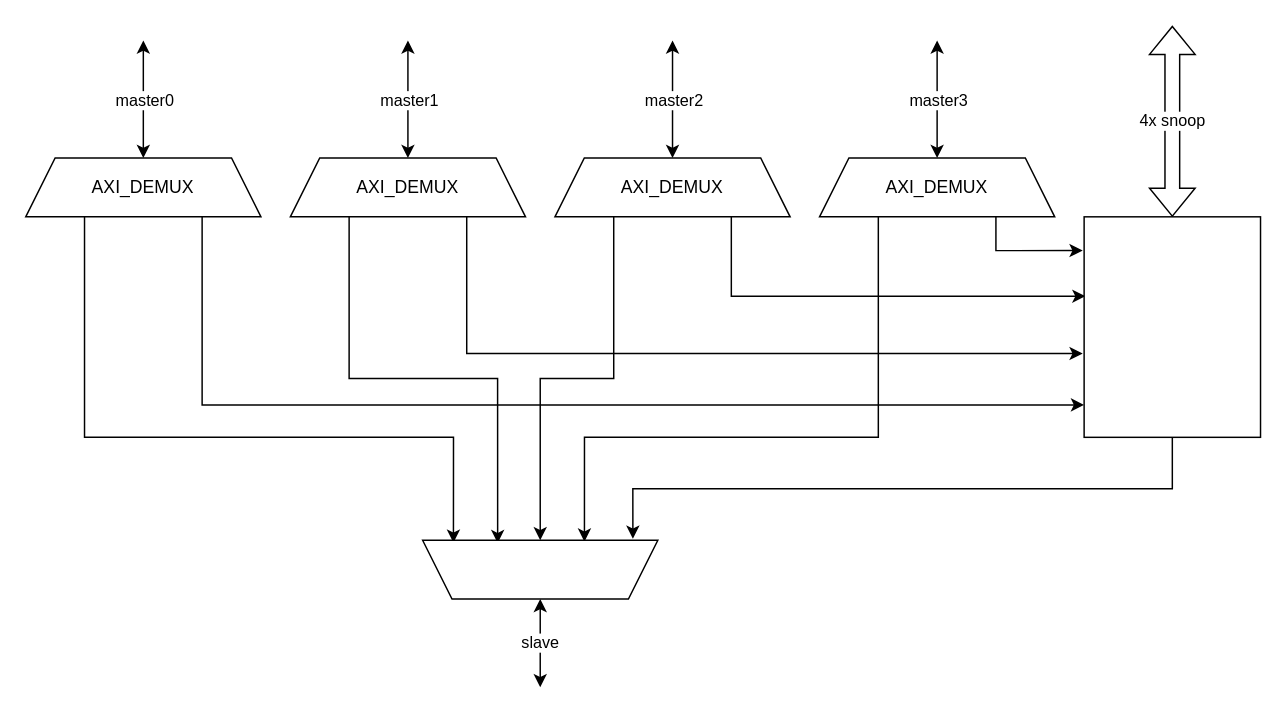
The diagram is 1286 pixels wide and 726 high, and some of its shapes have lost their labels. The centre of each missing label's shape, as x and y in pixels:
"AXI_MUX" goes at (x=539, y=569).
"CCU logic" goes at (x=1172, y=326).
